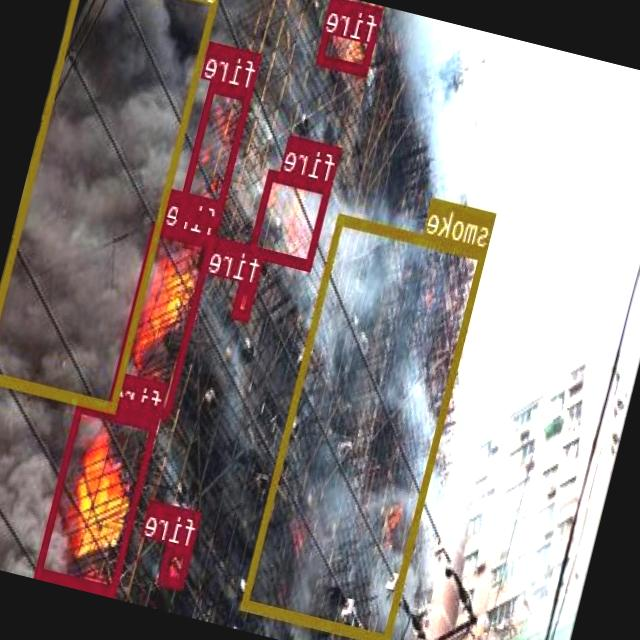fire: (36, 400, 158, 594), (110, 221, 216, 418), (178, 79, 254, 227), (249, 168, 333, 269), (317, 0, 384, 73), (158, 544, 194, 588), (232, 280, 258, 320)
smoke: (242, 211, 488, 640), (0, 0, 227, 413)
